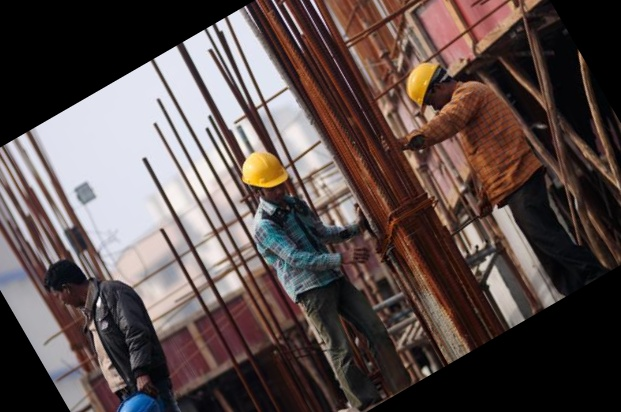NOTSAFE: (47, 260, 158, 391)
NoJacket: (407, 62, 538, 199), (245, 153, 339, 296)
